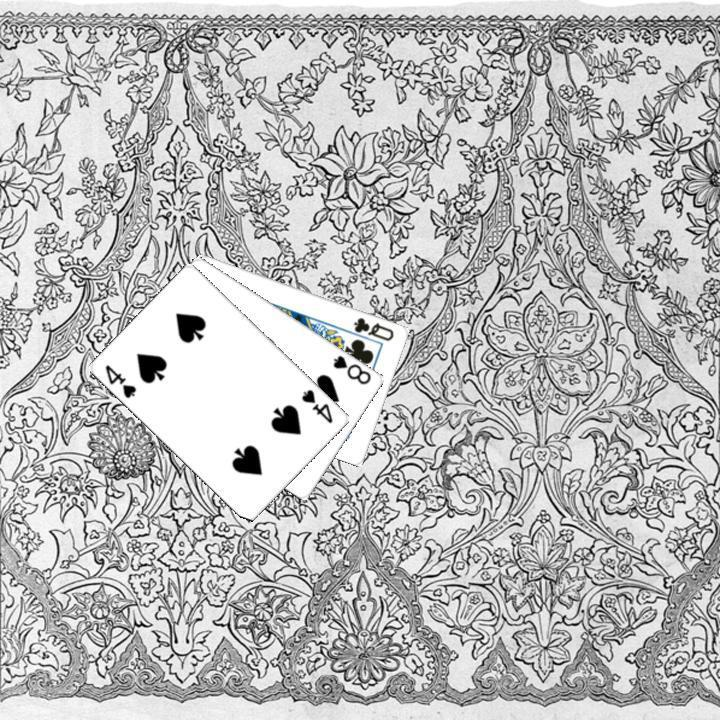4: (297, 385, 335, 425), (101, 360, 139, 400)
8: (329, 350, 374, 387)
Q: (349, 313, 396, 343)
